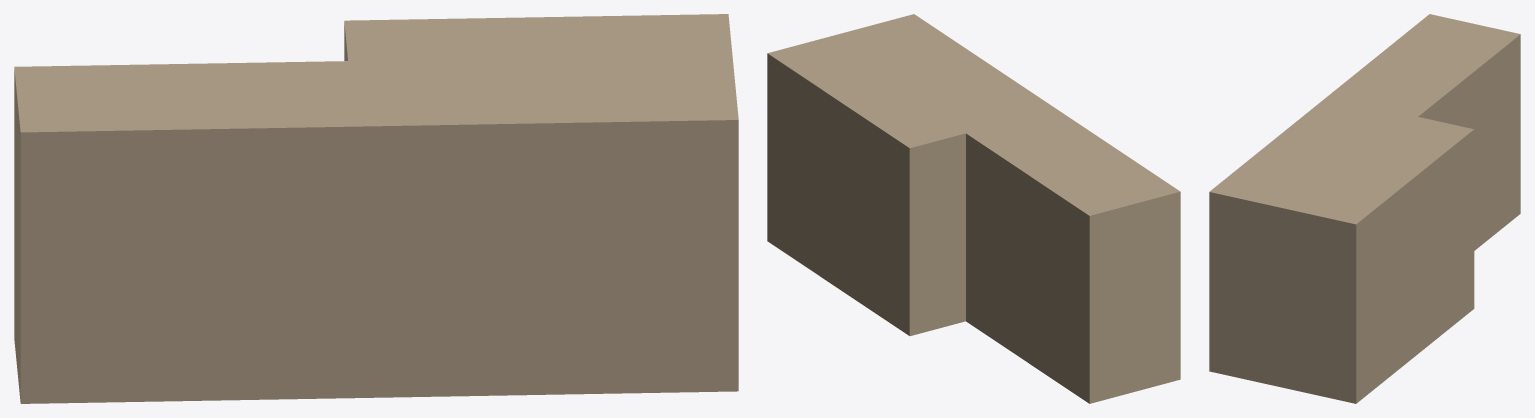
Rendered from bld_55879890.dae.
The picture shows the model from 3 angles, left to right: view 1: azimuth 30°, elevation 25°; view 2: azimuth 150°, elevation 25°; view 3: azimuth 270°, elevation 25°; orthographic projection. The views are drawn at different scales.
Parts seen in each view (by area): view 1: bld_55879890; view 2: bld_55879890; view 3: bld_55879890.
Part boxes in pixels (x1,y1,x2,y2): bld_55879890: (14, 14, 738, 403); bld_55879890: (767, 14, 1180, 403); bld_55879890: (1209, 14, 1520, 403).
Size of the model in its own units: 20.11 by 12.58 by 8.
